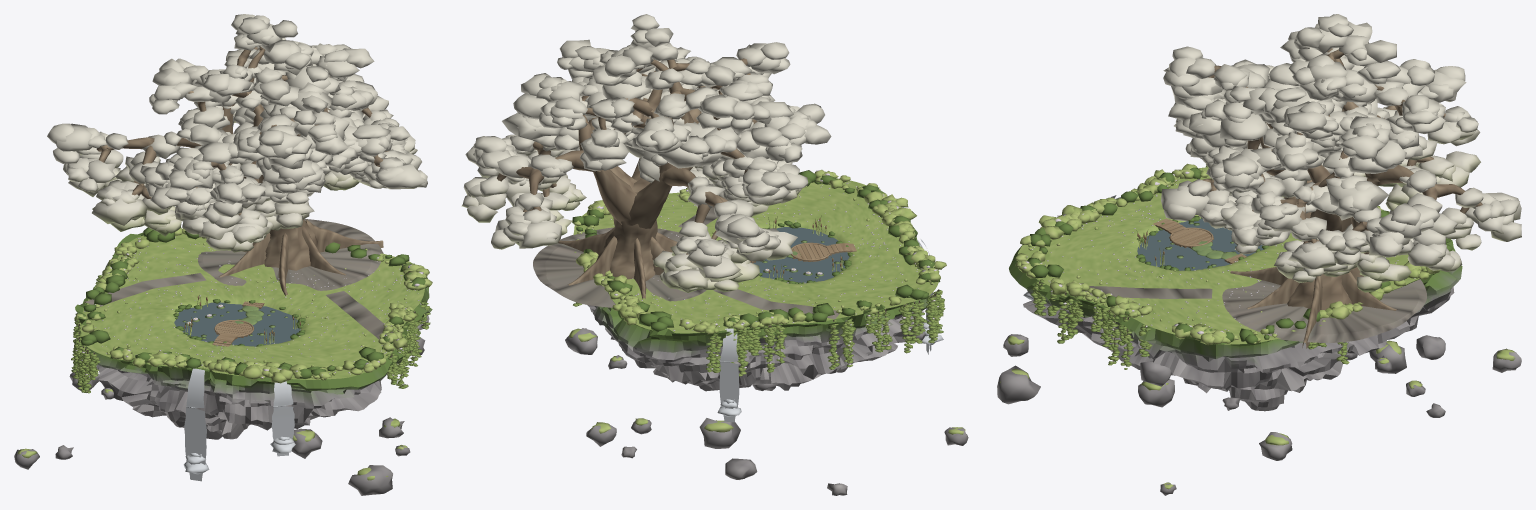
The model's file is community.glb.
3 views of the same model, side by side, from view 1: azimuth 30°, elevation 25°; view 2: azimuth 150°, elevation 25°; view 3: azimuth 270°, elevation 25° (orthographic). The views are drawn at different scales.
Parts seen in each view (by area): view 1: Canopy, Island, TreeWood, Plaza, RimShrubs, ScatterRocks, Waterfalls, Water, FloatRock, VineLeaves, Flowers, Deck (+1 smaller); view 2: Canopy, Island, TreeWood, RimShrubs, VineLeaves, Plaza, ScatterRocks, FloatRock, Water, Waterfalls, FloatGrass, Deck (+1 smaller); view 3: Canopy, Island, Plaza, TreeWood, RimShrubs, FloatRock, VineLeaves, ScatterRocks, Water, FloatGrass, Deck.
Part boxes in pixels (left/top/right/bottom): Canopy: left=47, top=14, right=427, bottom=252; Island: left=75, top=232, right=432, bottom=439; TreeWood: left=96, top=46, right=389, bottom=295; Plaza: left=85, top=219, right=392, bottom=339; RimShrubs: left=76, top=227, right=432, bottom=383; ScatterRocks: left=81, top=227, right=427, bottom=378; Waterfalls: left=105, top=262, right=295, bottom=481; Water: left=174, top=302, right=300, bottom=346; FloatRock: left=14, top=336, right=425, bottom=495; VineLeaves: left=71, top=255, right=430, bottom=393; Flowers: left=84, top=237, right=419, bottom=374; Deck: left=214, top=320, right=254, bottom=338; Canopy: left=461, top=14, right=831, bottom=292; Island: left=573, top=178, right=938, bottom=391; TreeWood: left=497, top=58, right=757, bottom=298; RimShrubs: left=572, top=169, right=946, bottom=334; VineLeaves: left=573, top=188, right=945, bottom=376; Plaza: left=533, top=207, right=839, bottom=318; ScatterRocks: left=572, top=170, right=940, bottom=331; FloatRock: left=565, top=328, right=968, bottom=495; Water: left=751, top=227, right=849, bottom=283; Waterfalls: left=717, top=207, right=943, bottom=422; FloatGrass: left=569, top=328, right=965, bottom=434; Deck: left=791, top=242, right=831, bottom=261; Canopy: left=1161, top=14, right=1521, bottom=292; Island: left=1009, top=167, right=1462, bottom=411; Plaza: left=1082, top=279, right=1426, bottom=342; TreeWood: left=1202, top=48, right=1482, bottom=348; RimShrubs: left=1015, top=163, right=1439, bottom=345; FloatRock: left=997, top=334, right=1521, bottom=495; VineLeaves: left=1030, top=165, right=1349, bottom=369; ScatterRocks: left=1027, top=167, right=1452, bottom=344; Water: left=1137, top=218, right=1263, bottom=270; FloatGrass: left=999, top=336, right=1515, bottom=489; Deck: left=1169, top=227, right=1213, bottom=248.
Size of the model in its own units: 33.52 by 30.06 by 32.6.
